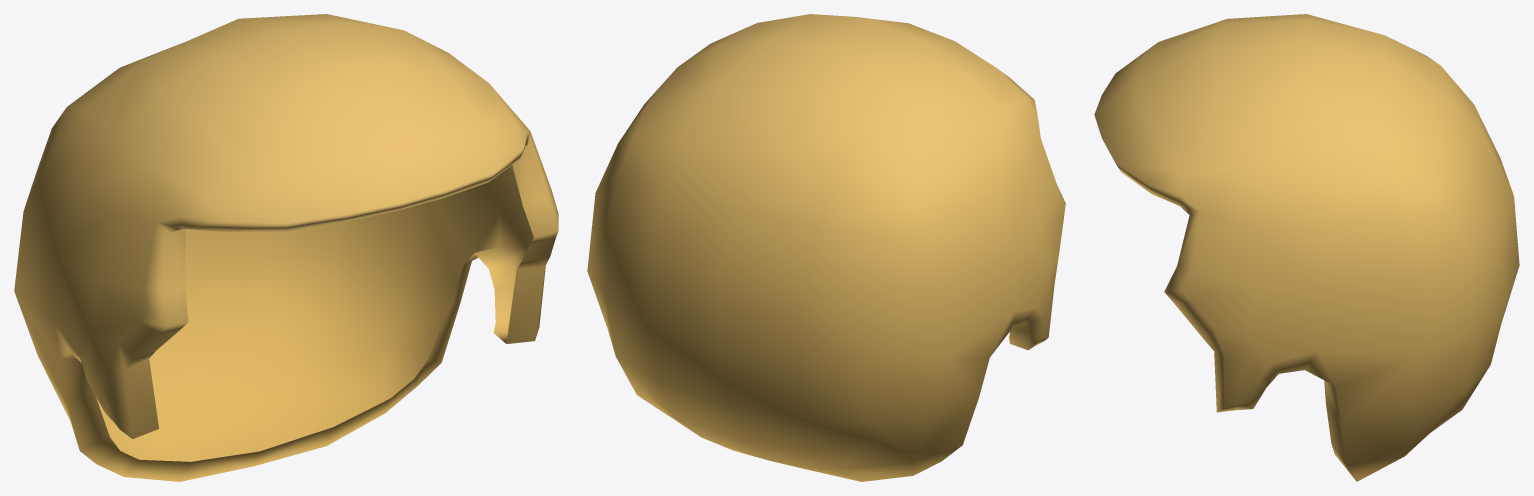
File: Hair_10.fbx
The picture shows the model from 3 angles, left to right: view 1: azimuth 30°, elevation 25°; view 2: azimuth 150°, elevation 25°; view 3: azimuth 270°, elevation 25°; orthographic projection. The views are drawn at different scales.
Visible parts, largest first — view 1: Hair_10; view 2: Hair_10; view 3: Hair_10.
Part boxes in pixels (x1=…): Hair_10: x1=14, y1=14, x2=558, y2=481; Hair_10: x1=587, y1=14, x2=1065, y2=481; Hair_10: x1=1094, y1=14, x2=1519, y2=481.
Size of the model in its own units: 52.84 by 51.31 by 48.92.
